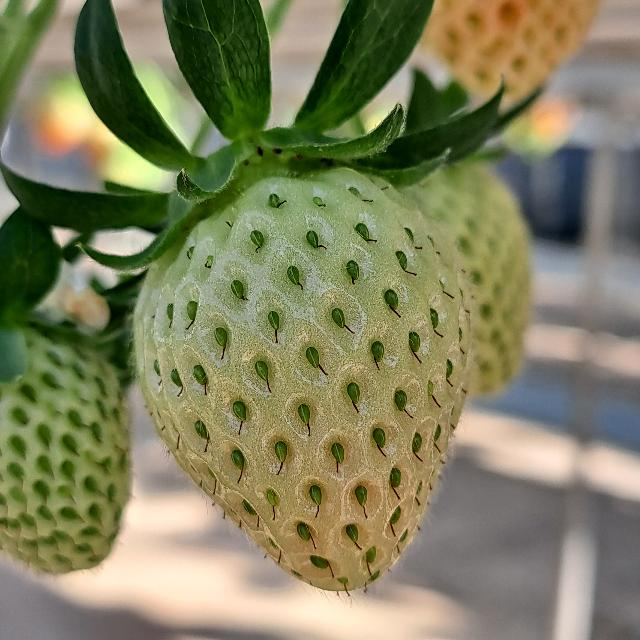Health_25: (132, 167, 472, 591), (0, 324, 128, 576)
